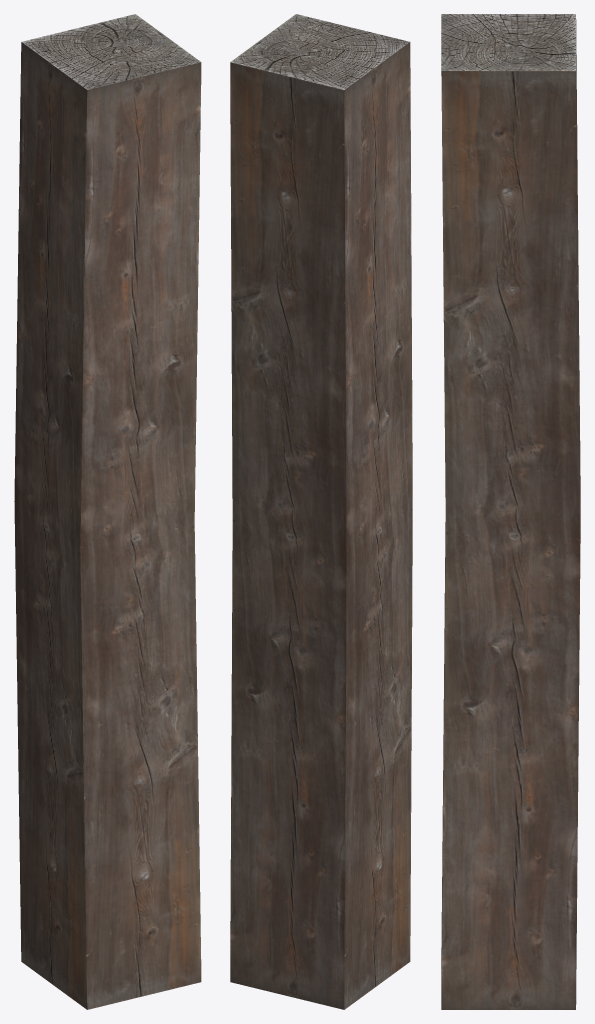
The model's file is columna_madera.fbx.
3 views of the same model, side by side, from view 1: azimuth 30°, elevation 25°; view 2: azimuth 150°, elevation 25°; view 3: azimuth 270°, elevation 25° (orthographic). The views are drawn at different scales.
Visible parts, largest first — view 1: columna_madera; view 2: columna_madera; view 3: columna_madera.
Part boxes in pixels (x1,y1,x2,y2): columna_madera: (14, 14, 201, 1009); columna_madera: (230, 14, 412, 1009); columna_madera: (441, 14, 580, 1009).
Bounding box in the file's own units: 27.05 × 200 × 26.85.
